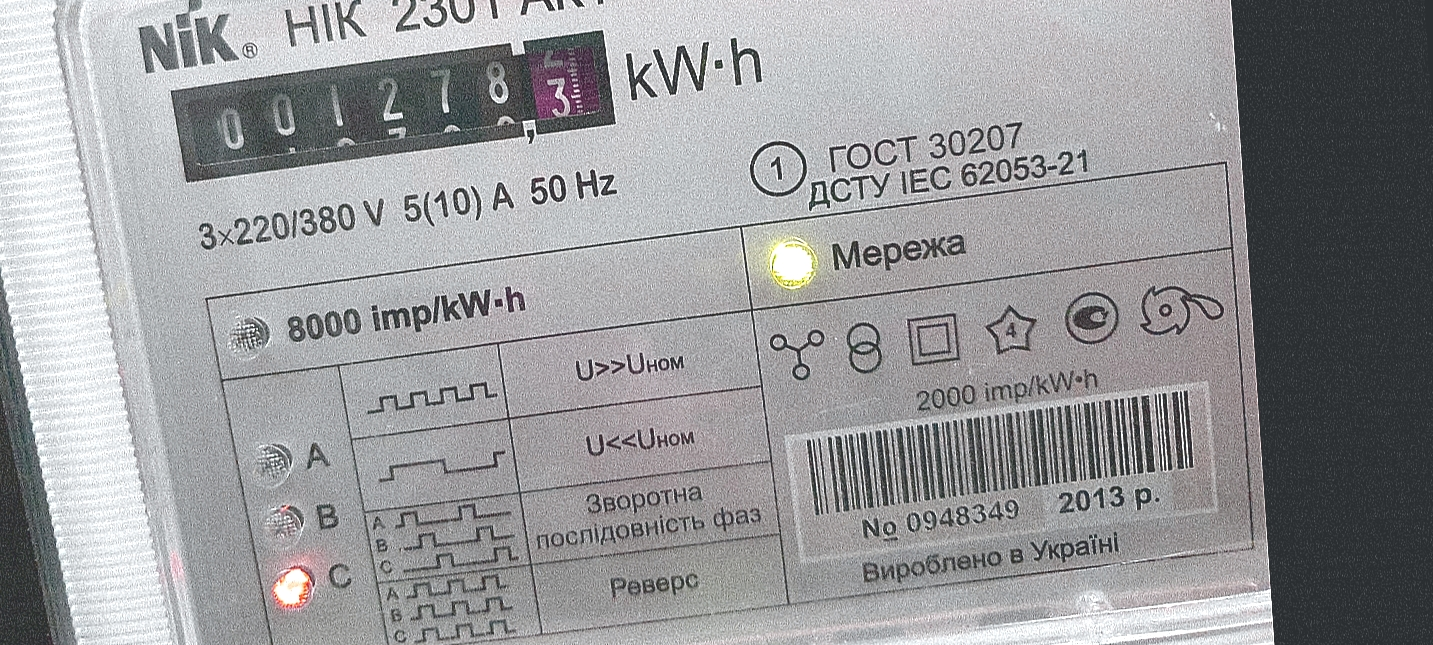0: (218, 102, 249, 151), (270, 89, 298, 137)
1: (328, 79, 348, 129)
2: (376, 73, 406, 121), (539, 46, 567, 69)
3: (545, 71, 574, 117)
7: (430, 65, 456, 115)
8: (484, 57, 512, 106)
screen: (150, 17, 636, 192)
